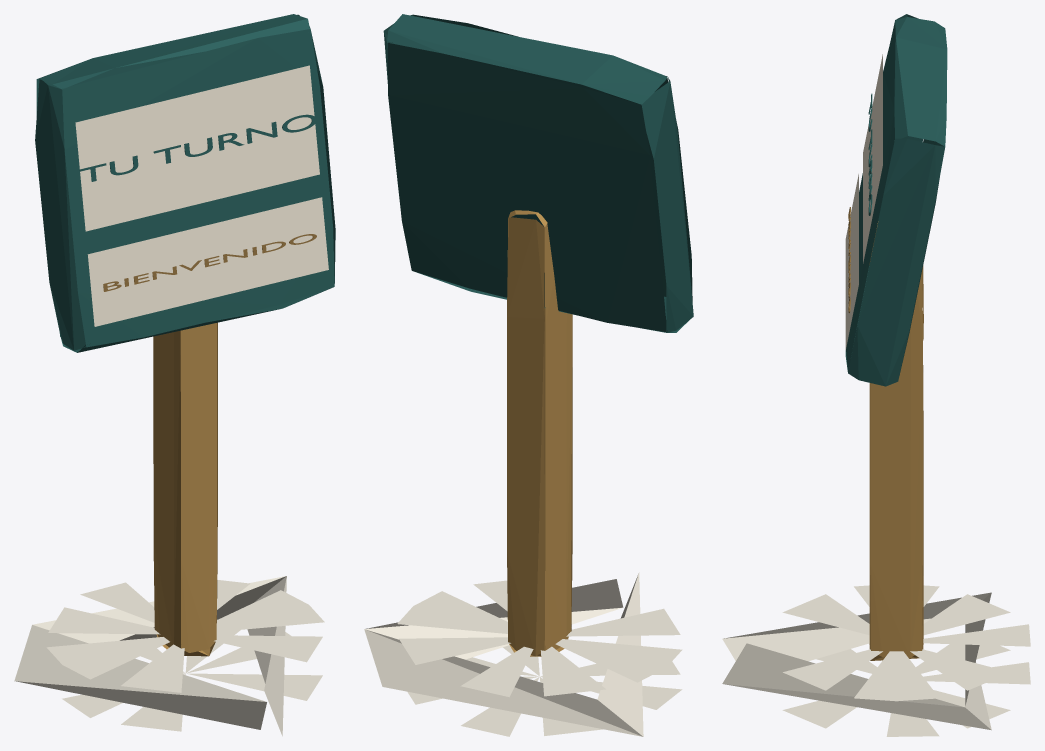
File: good.glb
The picture shows the model from 3 angles, left to right: view 1: azimuth 30°, elevation 25°; view 2: azimuth 150°, elevation 25°; view 3: azimuth 270°, elevation 25°; orthographic projection. The views are drawn at different scales.
Parts seen in each view (by area): view 1: Native component 2, Native component 0, Native component 3, Native component 1, Native component 4, Sign TU TURNO, Sign BIENVENIDO; view 2: Native component 2, Native component 0, Native component 1; view 3: Native component 0, Native component 2, Native component 1, Native component 3, Native component 4.
Part boxes in pixels (x1,y1,x2,y2): Native component 2: (35,14,335,352); Native component 0: (14,576,324,736); Native component 3: (75,65,319,231); Native component 1: (153,322,217,656); Native component 4: (87,197,328,326); Sign TU TURNO: (79,114,316,181); Sign BIENVENIDO: (103,234,316,291); Native component 2: (383,14,693,332); Native component 0: (364,572,682,736); Native component 1: (507,210,572,656); Native component 0: (722,585,1030,736); Native component 2: (845,14,947,386); Native component 1: (869,221,923,660); Native component 3: (863,54,882,263); Native component 4: (845,174,858,349).
Bounding box in the file's own units: 0.6629 × 1.45 × 0.6651.
